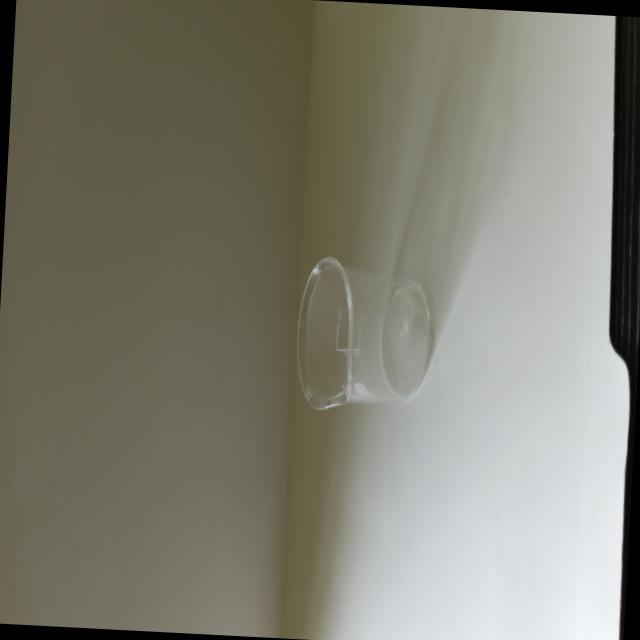beaker: (288, 250, 436, 422)
